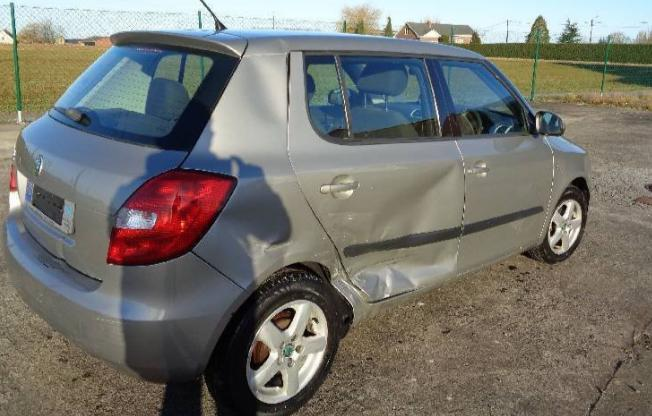Broken part: (333, 249, 412, 313), (285, 51, 292, 126), (38, 259, 57, 272)
Dent: (360, 159, 454, 260), (332, 241, 456, 310), (221, 201, 297, 280), (312, 224, 354, 278), (33, 250, 75, 282)
Missing part: (32, 185, 64, 227)
Scratch: (370, 253, 414, 271), (92, 317, 130, 326), (328, 211, 357, 219)
